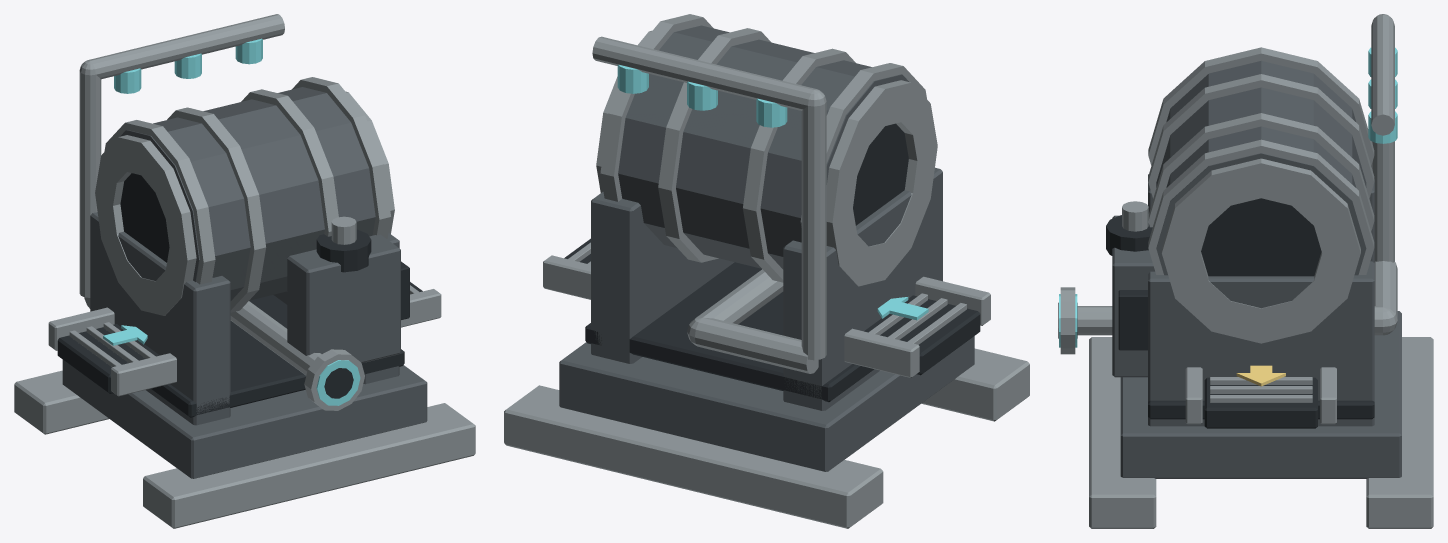
The model's file is ore-washer-mk1.glb.
3 views of the same model, side by side, from view 1: azimuth 30°, elevation 25°; view 2: azimuth 150°, elevation 25°; view 3: azimuth 270°, elevation 25° (orthographic). The views are drawn at different scales.
Parts seen in each view (by area): view 1: ore-washer / Graphite enamel, ore-washer / Machined steel, ore-washer / Recesses and belt, ore-washer / Cyan inlet markings; view 2: ore-washer / Machined steel, ore-washer / Graphite enamel, ore-washer / Recesses and belt, ore-washer / Cyan inlet markings; view 3: ore-washer / Machined steel, ore-washer / Graphite enamel, ore-washer / Recesses and belt, ore-washer / Cyan inlet markings, ore-washer / Gold outlet markings.
Boxes of the visible parts, x1,y1,x2,y2 form: ore-washer / Graphite enamel: (62,87,427,478); ore-washer / Machined steel: (14,14,475,528); ore-washer / Recesses and belt: (57,173,422,417); ore-washer / Cyan inlet markings: (103,38,360,405); ore-washer / Machined steel: (504,14,1029,528); ore-washer / Graphite enamel: (559,25,974,471); ore-washer / Recesses and belt: (564,123,980,402); ore-washer / Cyan inlet markings: (617,64,928,320); ore-washer / Machined steel: (1060,14,1433,528); ore-washer / Graphite enamel: (1112,60,1401,478); ore-washer / Recesses and belt: (1058,198,1374,428); ore-washer / Cyan inlet markings: (1059,47,1397,347); ore-washer / Gold outlet markings: (1236,365,1285,386).
Size of the model in its own units: 0.96 by 1.01 by 0.893.
